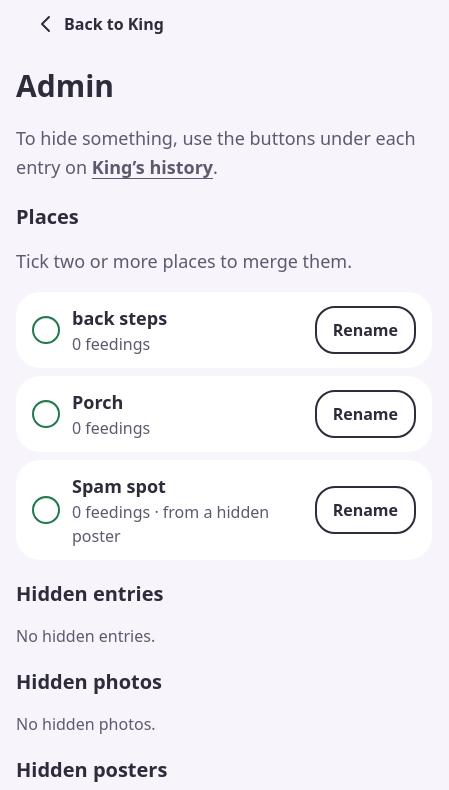
Scenario: AdminPage — renaming a place › opens a field with the current name, focused, limited like a new place
Click the button with aria-label "Rename Porch".
click(365, 414)  # box [315,390,416,438]
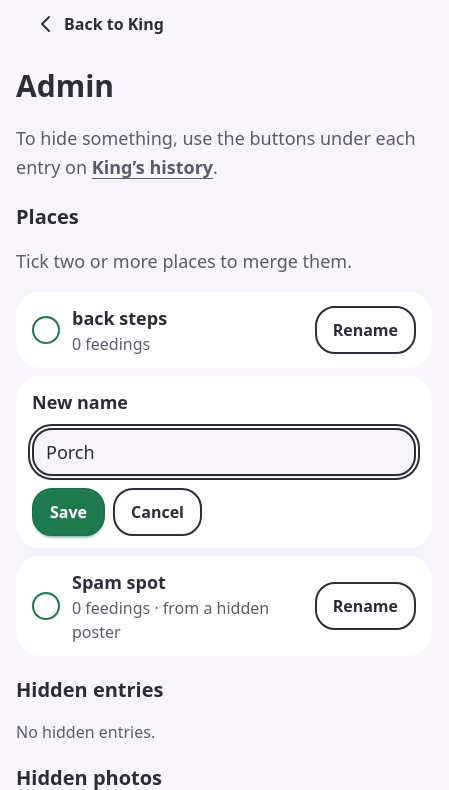
Result: the field labelled "New name" holds "Porch" at [32,428,416,476]
